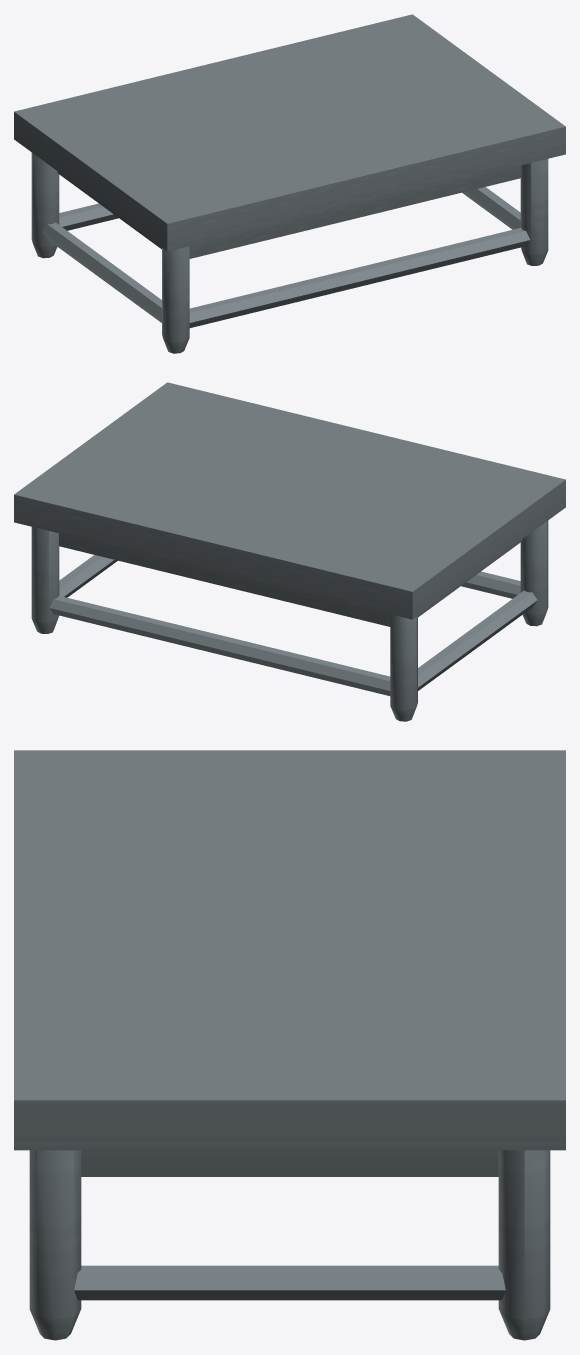
File: kitchentable_A_large.gltf
3 renders of one model, top to bottom at view 1: azimuth 30°, elevation 25°; view 2: azimuth 150°, elevation 25°; view 3: azimuth 270°, elevation 25°, orthographic. The views are drawn at different scales.
Visible parts, largest first — view 1: kitchentable_A_large; view 2: kitchentable_A_large; view 3: kitchentable_A_large.
Boxes of the visible parts, left/top/right/bottom form: kitchentable_A_large: left=14, top=14, right=565, bottom=353; kitchentable_A_large: left=14, top=382, right=565, bottom=721; kitchentable_A_large: left=14, top=750, right=565, bottom=1340.
Size of the model in its own units: 3 by 1 by 2.
Materials: 1 (1 with a texture image).
